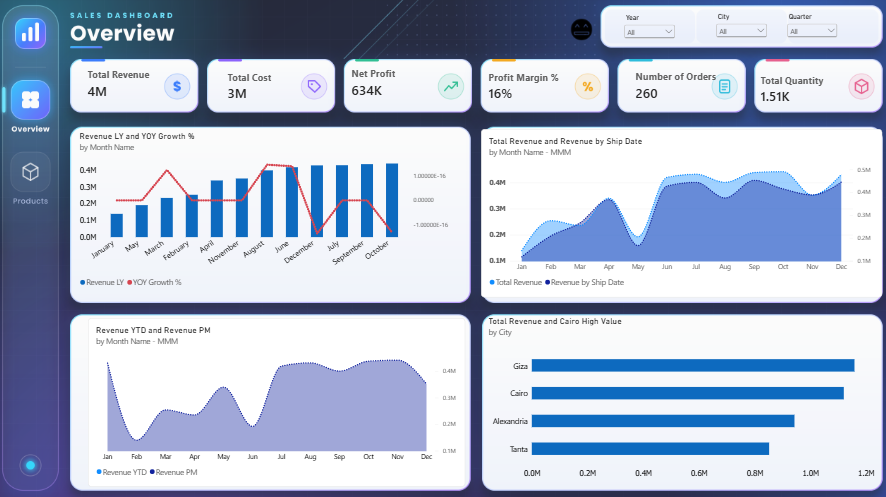

The dashboard page shown, as its layout file describes it:
{"tool":"powerbi","page":{"name":"Page 1","canvas":[1920,1080],"ordinal":0},"visuals":[{"type":"slicer","fields":{"Values":["DimDate.Year"]},"box":[1342.5,37.5,117.1,57.1],"z":0},{"type":"slicer","fields":{"Values":["Sales.City"]},"box":[1537.1,37.1,117.1,57.1],"z":1000},{"type":"slicer","fields":{"Values":["DimDate.Quarter"]},"box":[1687.1,37.1,115.7,57.1],"z":2000},{"type":"cardVisual","fields":{"Data":["_Measures.Total Revenue"]},"box":[190,102.5,205,170],"z":3000},{"type":"cardVisual","fields":{"Data":["_Measures.Total Cost"]},"box":[487.5,102.5,165,180],"z":4000},{"type":"cardVisual","fields":{"Data":["_Measures.Net Profit"]},"box":[751.4,120,187.5,132.5],"z":5000},{"type":"cardVisual","fields":{"Data":["_Measures.Profit Margin %"]},"box":[1042,124,212.5,137.5],"z":6000},{"type":"cardVisual","fields":{"Data":["_Measures.Number of Orders"]},"box":[1355,127.5,207.5,127.5],"z":7000},{"type":"cardVisual","fields":{"Data":["_Measures.Total Quantity"]},"box":[1620,145,217.5,107.5],"z":8000},{"type":"lineClusteredColumnComboChart","fields":{"Category":["DimDate.Month Name"],"Y":["_Measures.Revenue LY"],"Y2":["_Measures.YOY Growth %"]},"box":[172.5,272.5,837.5,367.5],"z":9000},{"type":"areaChart","fields":{"Category":["DimDate.Month Name - MMM"],"Y":["_Measures.Revenue YTD"],"Y2":["_Measures.Revenue PM"]},"box":[207.2,685.5,802.3,359.3],"z":10000},{"type":"areaChart","fields":{"Category":["DimDate.Month Name - MMM"],"Y":["_Measures.Total Revenue"],"Y2":["_Measures.Revenue by Ship Date"]},"box":[1042.5,282.5,852.5,357.5],"z":11000},{"type":"clusteredBarChart","fields":{"Category":["Sales.City"],"Y":["_Measures.Total Revenue"]},"box":[1042.5,665,852.5,380],"z":12000},{"type":"actionButton","box":[37.5,332.5,87.5,92.5],"z":13000},{"type":"actionButton","box":[1222.5,37.5,65,65],"z":14000}]}

Visuals, with their boxes in screenshot pixels (x1, y1, x2, y2):
slicer - DimDate.Year: <region>621, 15, 676, 42</region>
slicer - Sales.City: <region>713, 15, 768, 42</region>
slicer - DimDate.Quarter: <region>783, 15, 837, 42</region>
cardVisual - _Measures.Total Revenue: <region>80, 46, 176, 126</region>
cardVisual - _Measures.Total Cost: <region>220, 46, 297, 130</region>
cardVisual - _Measures.Net Profit: <region>344, 54, 432, 116</region>
cardVisual - _Measures.Profit Margin %: <region>480, 56, 580, 120</region>
cardVisual - _Measures.Number of Orders: <region>627, 58, 725, 117</region>
cardVisual - _Measures.Total Quantity: <region>752, 66, 854, 116</region>
lineClusteredColumnComboChart - DimDate.Month Name x _Measures.Revenue LY: <region>72, 126, 465, 298</region>
areaChart - DimDate.Month Name - MMM x _Measures.Revenue YTD: <region>88, 320, 465, 488</region>
areaChart - DimDate.Month Name - MMM x _Measures.Total Revenue: <region>480, 130, 881, 298</region>
clusteredBarChart - Sales.City x _Measures.Total Revenue: <region>480, 310, 881, 488</region>
actionButton: <region>8, 154, 49, 197</region>
actionButton: <region>565, 15, 595, 46</region>
